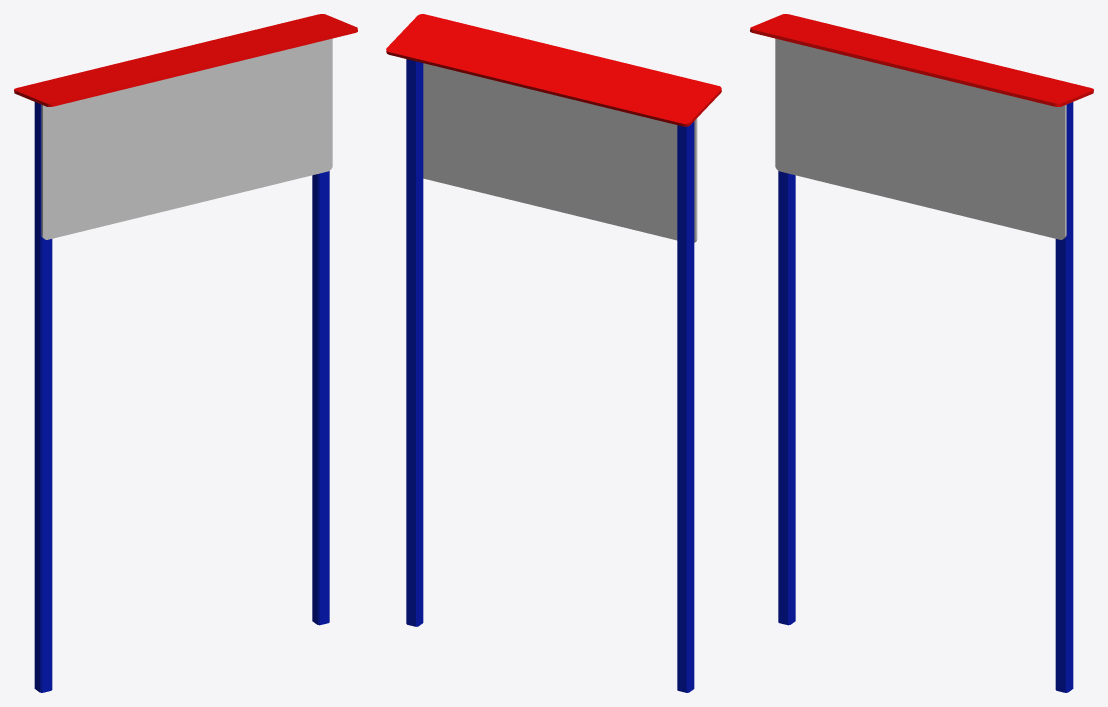
3 renders of one model, left to right at view 1: azimuth 30°, elevation 25°; view 2: azimuth 150°, elevation 25°; view 3: azimuth 330°, elevation 25°, orthographic. The views are drawn at different scales.
Visible parts, largest first — view 1: B-56; view 2: B-56; view 3: B-56.
Boxes of the visible parts, x1,y1,x2,y2 form: B-56: [14, 14, 357, 692]; B-56: [386, 14, 721, 692]; B-56: [750, 14, 1093, 692].
Bounding box in the file's own units: 102 × 190 × 21.1.
